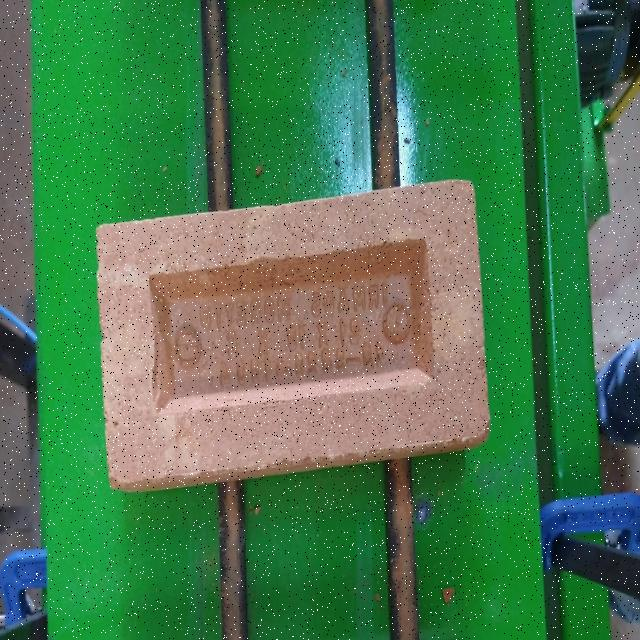bricks: (96, 178, 490, 492)
